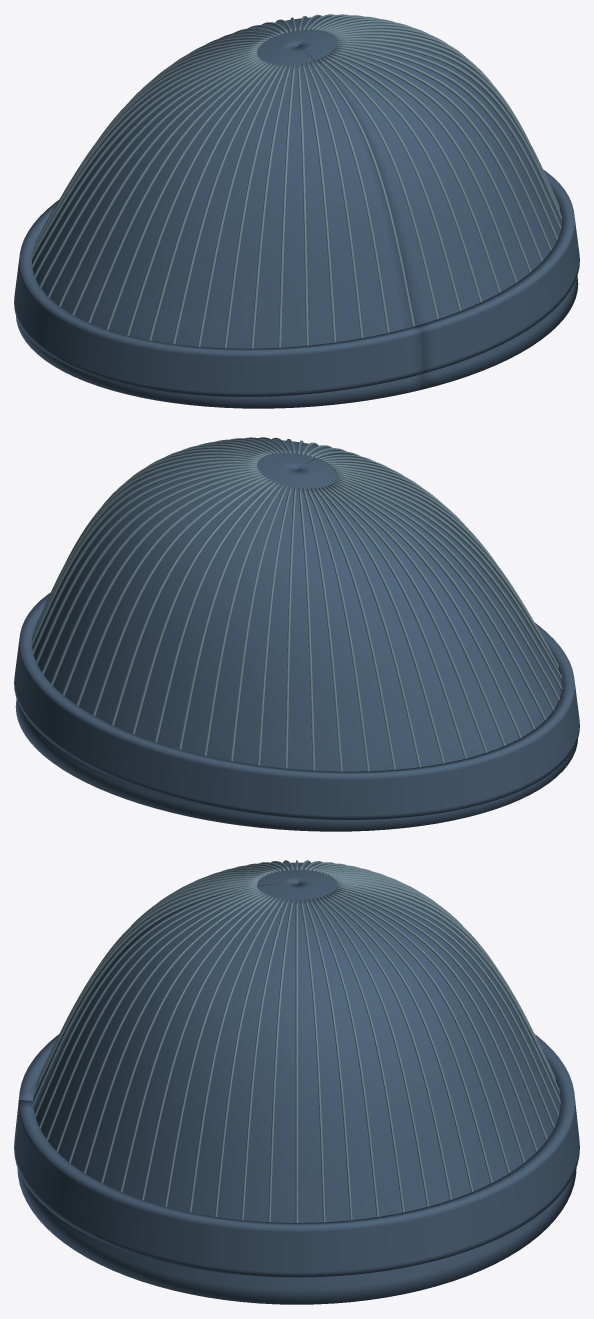
File: Feminine-curls-beanie251-headgear.glb
3 views of the same model, one above another, from view 1: azimuth 30°, elevation 25°; view 2: azimuth 150°, elevation 25°; view 3: azimuth 270°, elevation 25° (orthographic). The views are drawn at different scales.
Parts seen in each view (by area): view 1: 226 headgear / Headwear / fabric226.002, 226 headgear / Headwear / seam226.002; view 2: 226 headgear / Headwear / fabric226.002, 226 headgear / Headwear / seam226.002; view 3: 226 headgear / Headwear / fabric226.002, 226 headgear / Headwear / seam226.002.
Boxes of the visible parts, <box> form: 226 headgear / Headwear / fabric226.002: <box>14,16,579,408</box>; 226 headgear / Headwear / seam226.002: <box>31,14,561,348</box>; 226 headgear / Headwear / fabric226.002: <box>14,439,579,831</box>; 226 headgear / Headwear / seam226.002: <box>32,437,562,771</box>; 226 headgear / Headwear / fabric226.002: <box>14,862,579,1304</box>; 226 headgear / Headwear / seam226.002: <box>33,860,560,1222</box>.
Size of the model in its own units: 1.03 by 0.4998 by 0.886.
